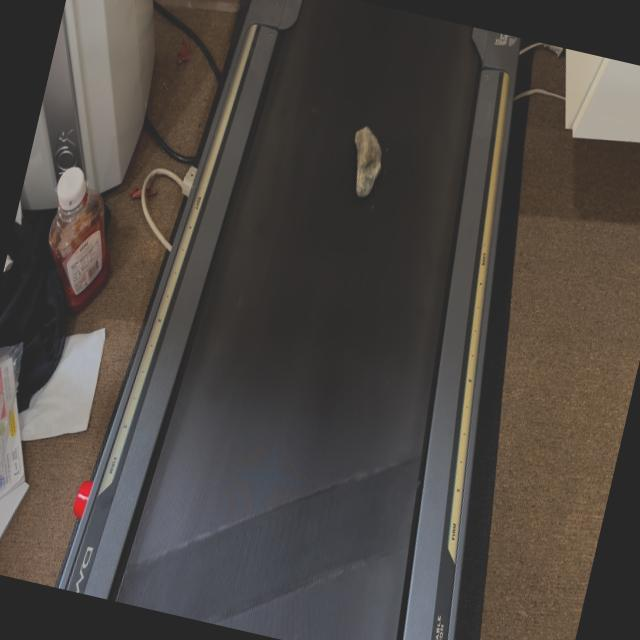Trash: (342, 125, 388, 202)
